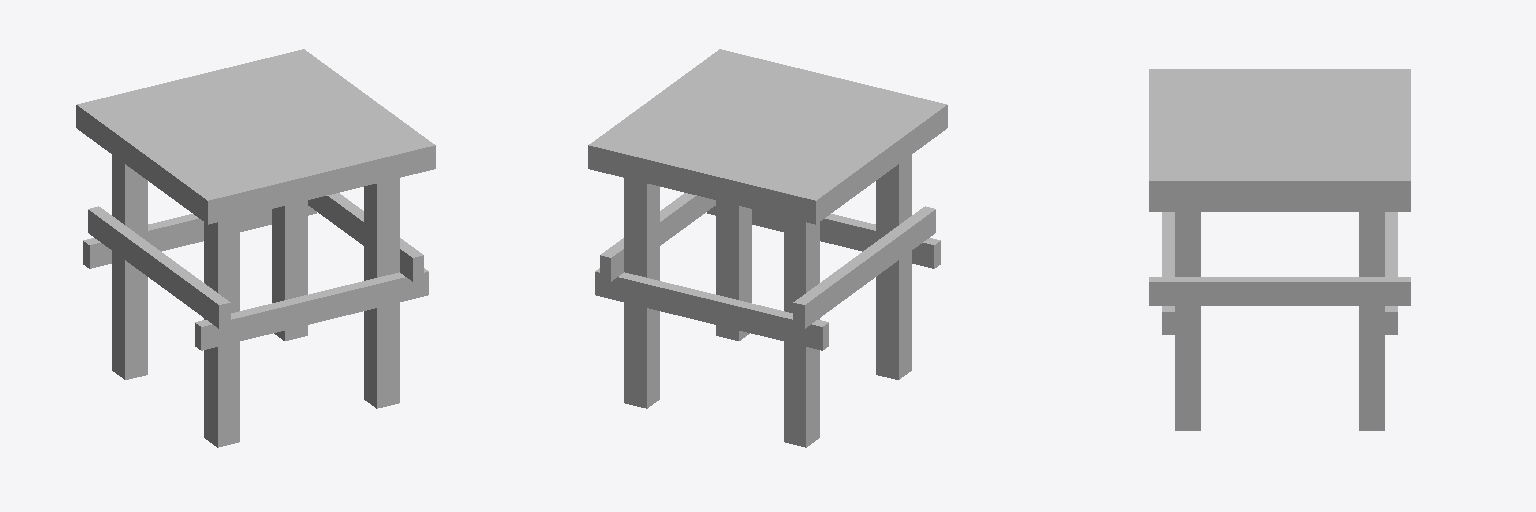
The model's file is Environment-4.obj.
The picture shows the model from 3 angles: view 1: azimuth 30°, elevation 25°; view 2: azimuth 150°, elevation 25°; view 3: azimuth 270°, elevation 25°; orthographic projection.
Visible parts, largest first — view 1: object 1; view 2: object 1; view 3: object 1.
Boxes of the visible parts, box(x1,y1,x2,y2) form: object 1: box(76, 49, 435, 447); object 1: box(588, 49, 947, 447); object 1: box(1149, 69, 1410, 430).
Size of the model in its own units: 2 by 2.2 by 2.